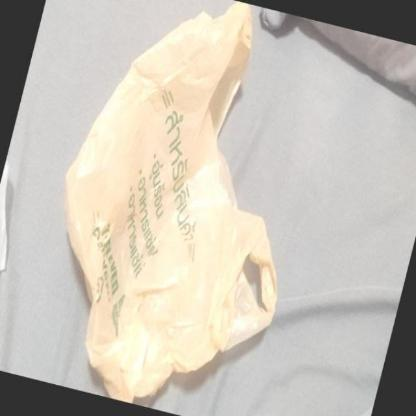Plastic Bag: (65, 5, 281, 415)
